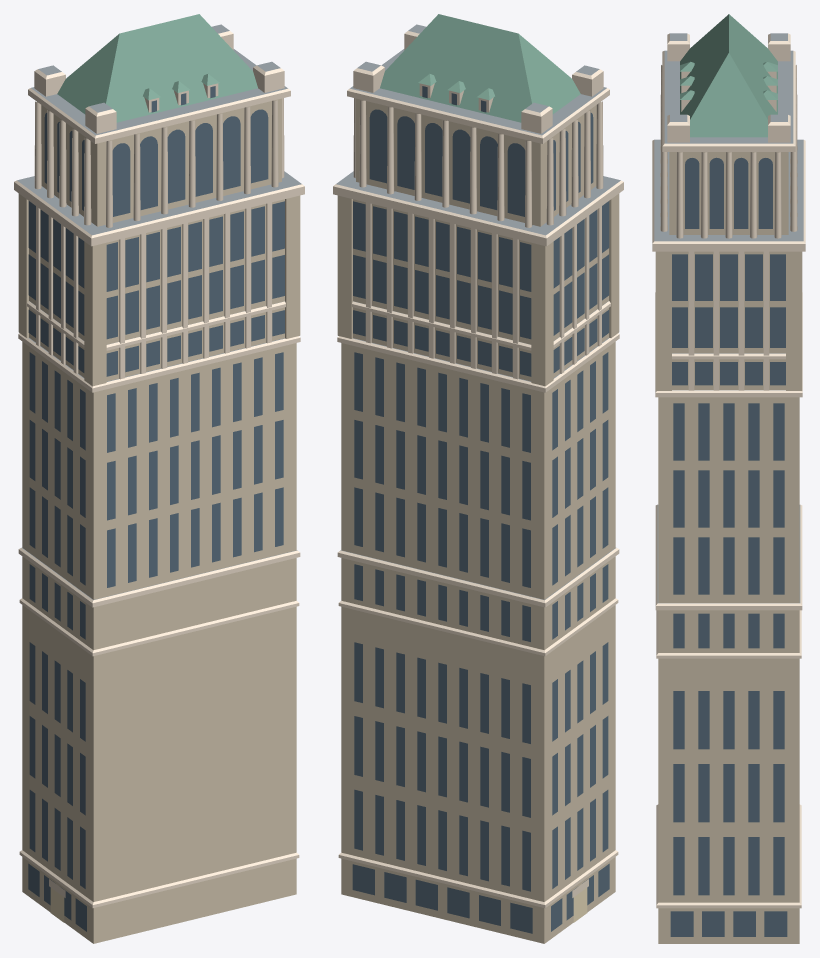
The model's file is det-book-tower.glb.
3 renders of one model, left to right at view 1: azimuth 30°, elevation 25°; view 2: azimuth 150°, elevation 25°; view 3: azimuth 270°, elevation 25°, orthographic.
Visible parts, largest first — view 1: Book Tower; view 2: Book Tower; view 3: Book Tower.
Boxes of the visible parts, <box> form: Book Tower: <box>14,14,304,943</box>; Book Tower: <box>333,14,623,943</box>; Book Tower: <box>652,14,805,943</box>.
Bounding box in the file's own units: 36.4 × 142 × 22.8.
